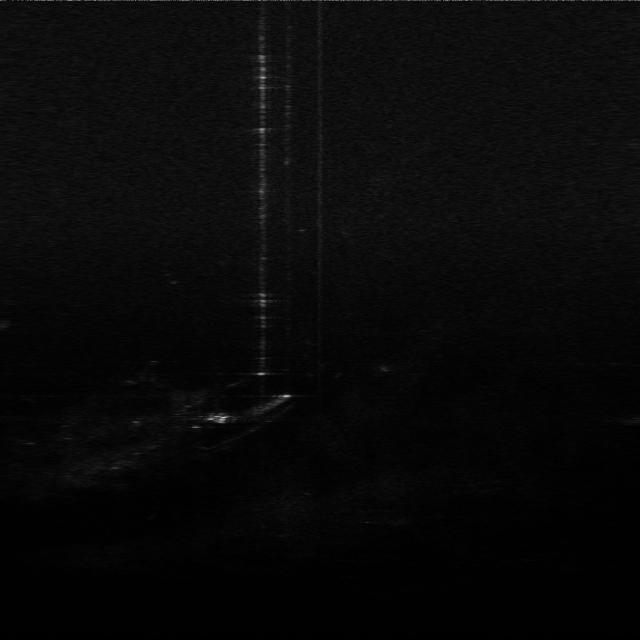rov: (206, 408, 232, 428)
